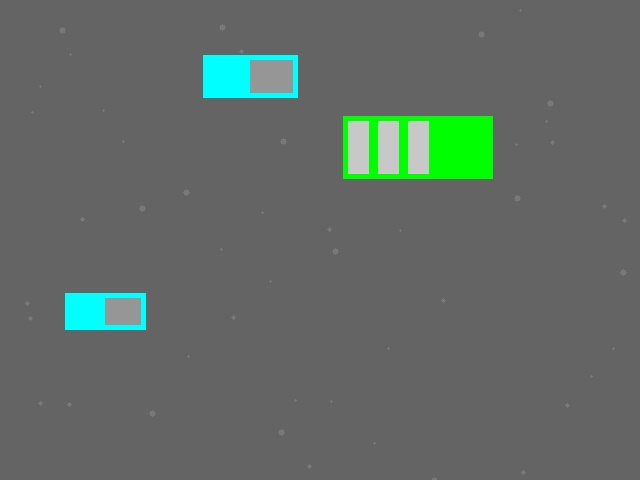bus: (343, 116, 492, 178)
truck: (203, 55, 297, 97), (65, 293, 145, 329)
